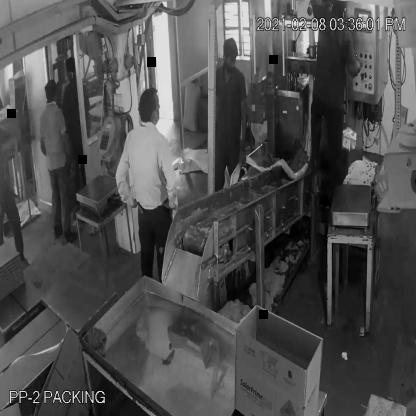no_glove: (113, 140, 137, 210), (56, 122, 81, 183), (236, 87, 254, 165), (158, 144, 177, 214), (342, 34, 362, 82)
